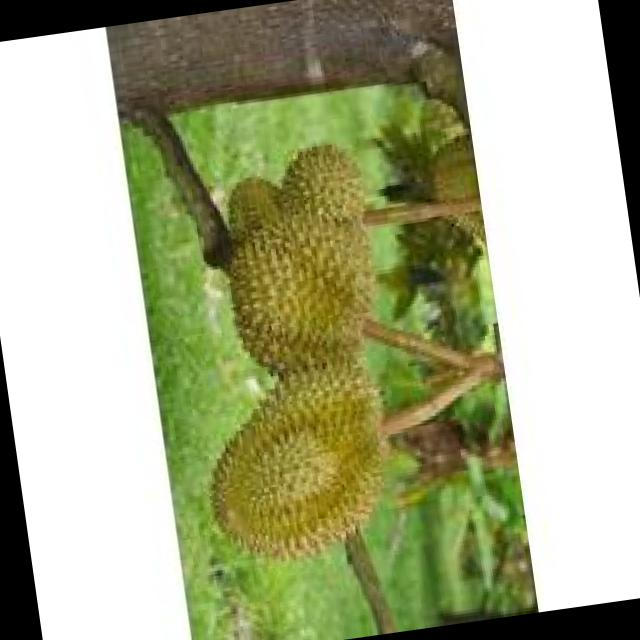fruit: (192, 132, 408, 402), (180, 353, 422, 587)
